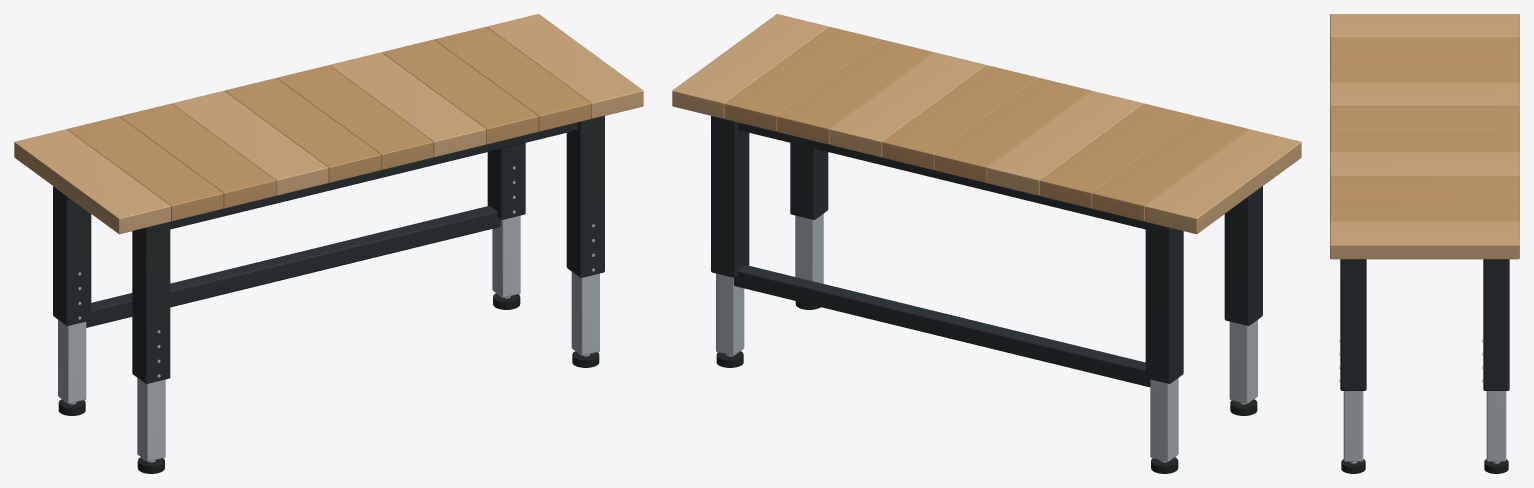
The model's file is garage-workbench.glb.
The picture shows the model from 3 angles, left to right: view 1: azimuth 30°, elevation 25°; view 2: azimuth 150°, elevation 25°; view 3: azimuth 270°, elevation 25°; orthographic projection. The views are drawn at different scales.
Visible parts, largest first — view 1: catalog_surface_RealismUV, catalog_surface_UVMap; view 2: catalog_surface_RealismUV, catalog_surface_UVMap; view 3: catalog_surface_RealismUV, catalog_surface_UVMap.
Boxes of the visible parts, x1,y1,x2,y2 form: catalog_surface_RealismUV: (14,14,643,473); catalog_surface_UVMap: (53,116,604,383); catalog_surface_RealismUV: (672,14,1301,473); catalog_surface_UVMap: (711,116,1262,387); catalog_surface_RealismUV: (1330,14,1519,473); catalog_surface_UVMap: (1340,259,1509,390).
Size of the model in its own units: 1.83 by 0.9 by 0.635.
